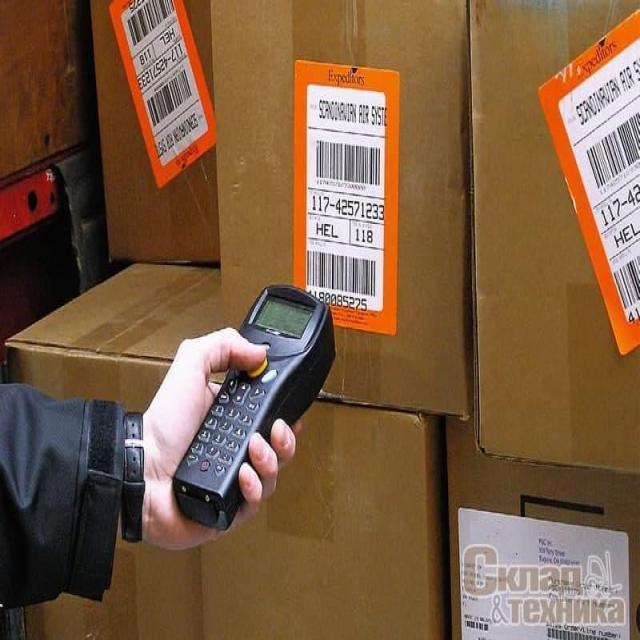box: (200, 0, 474, 420), (471, 0, 640, 465), (195, 393, 448, 640), (444, 407, 640, 640), (88, 0, 217, 273)
